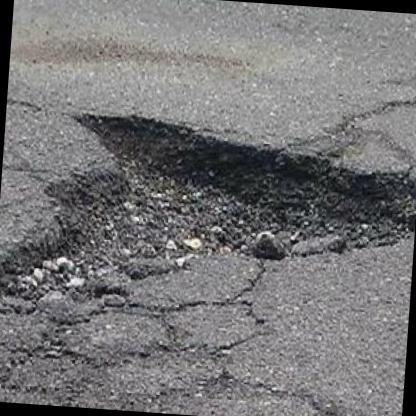pothole: (0, 102, 416, 345)
